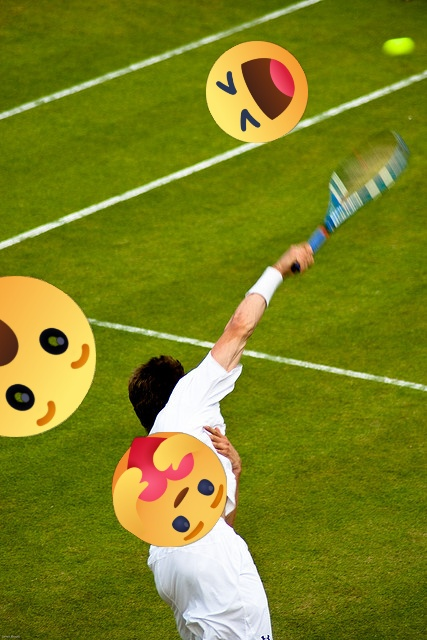care: (112, 432, 227, 547)
haha: (206, 41, 308, 143)
wow: (0, 276, 96, 437)
